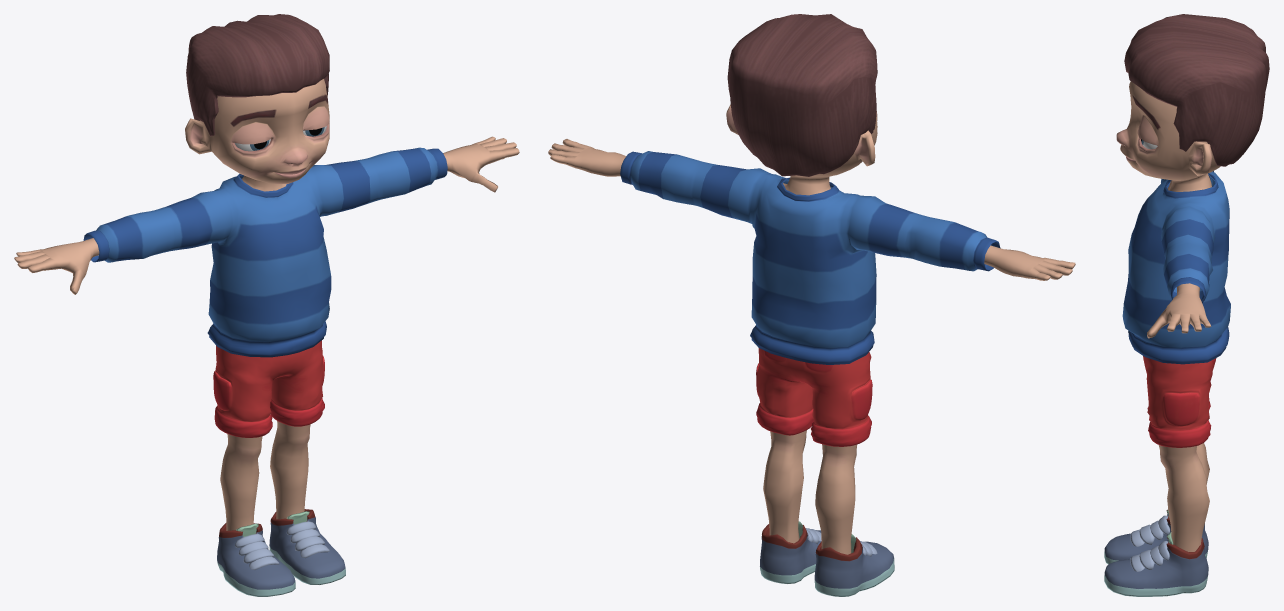
The model's file is boy.glb.
The picture shows the model from 3 angles, left to right: view 1: azimuth 30°, elevation 25°; view 2: azimuth 150°, elevation 25°; view 3: azimuth 270°, elevation 25°; orthographic projection. The views are drawn at different scales.
Visible parts, largest first — view 1: pullover, cuerpo_01, pelo, short, zappas; view 2: pullover, pelo, cuerpo_01, short, zappas; view 3: pullover, pelo, cuerpo_01, zappas, short.
Part boxes in pixels (x1=…): pullover: x1=83, y1=147, x2=447, y2=357; cuerpo_01: x1=14, y1=79, x2=519, y2=530; pelo: x1=186, y1=14, x2=329, y2=136; short: x1=213, y1=340, x2=324, y2=437; zappas: x1=217, y1=509, x2=345, y2=596; pullover: x1=620, y1=151, x2=1000, y2=364; pelo: x1=727, y1=14, x2=877, y2=176; cuerpo_01: x1=548, y1=104, x2=1075, y2=554; short: x1=756, y1=348, x2=872, y2=446; zappas: x1=760, y1=521, x2=894, y2=596; pullover: x1=1122, y1=171, x2=1230, y2=364; pelo: x1=1124, y1=14, x2=1269, y2=166; cuerpo_01: x1=1116, y1=81, x2=1220, y2=551; zappas: x1=1104, y1=509, x2=1208, y2=596; short: x1=1143, y1=356, x2=1216, y2=447.
Size of the model in its own units: 1.29 by 1.33 by 0.3655.
Materials: 11 (5 with a texture image).
